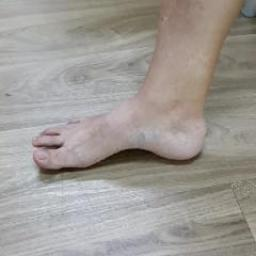Medial View -Right Foot-: (9, 58, 243, 188)
